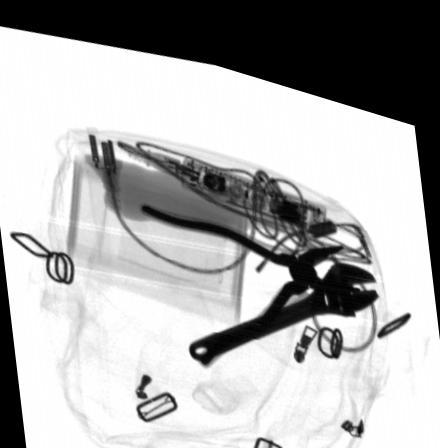Pliers: (136, 194, 358, 354)
Wrench: (189, 240, 378, 349)
